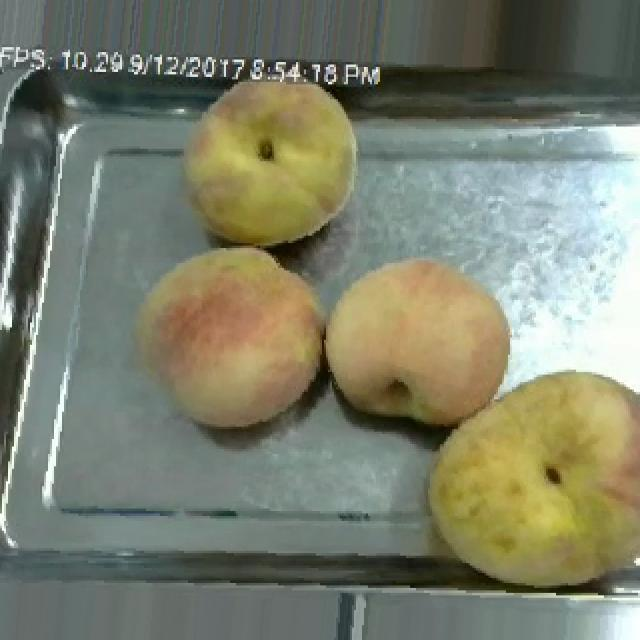Fruit: (418, 358, 640, 596), (122, 236, 336, 437), (170, 59, 368, 256), (318, 248, 522, 434)
